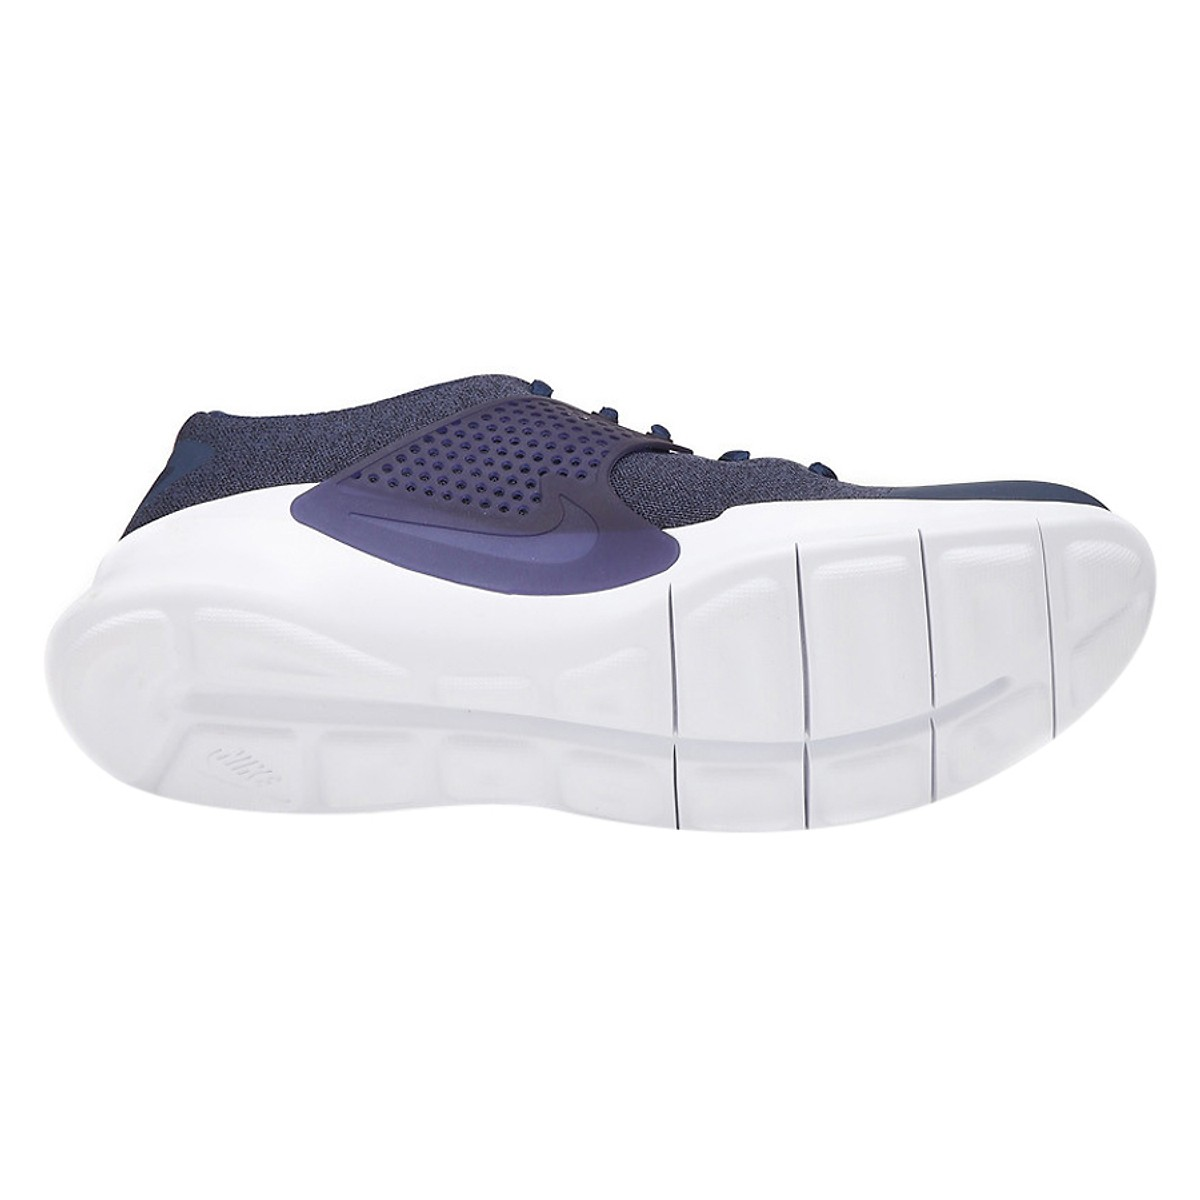Nike: (336, 451, 684, 652)
